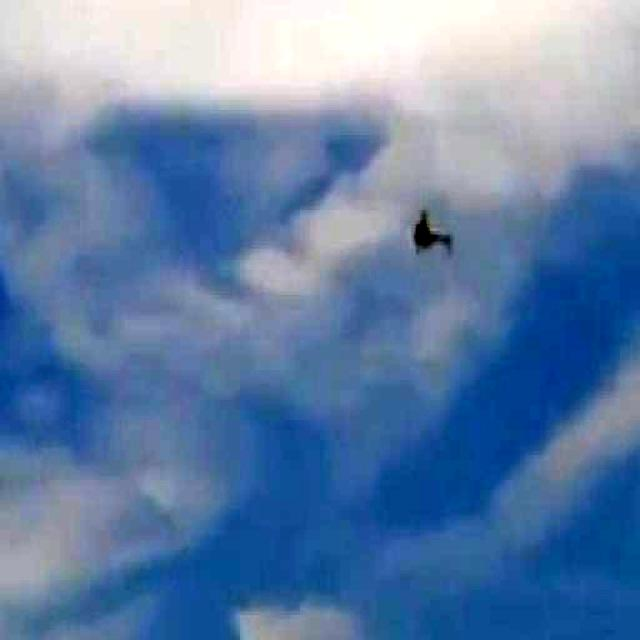drone: (404, 199, 456, 260)
